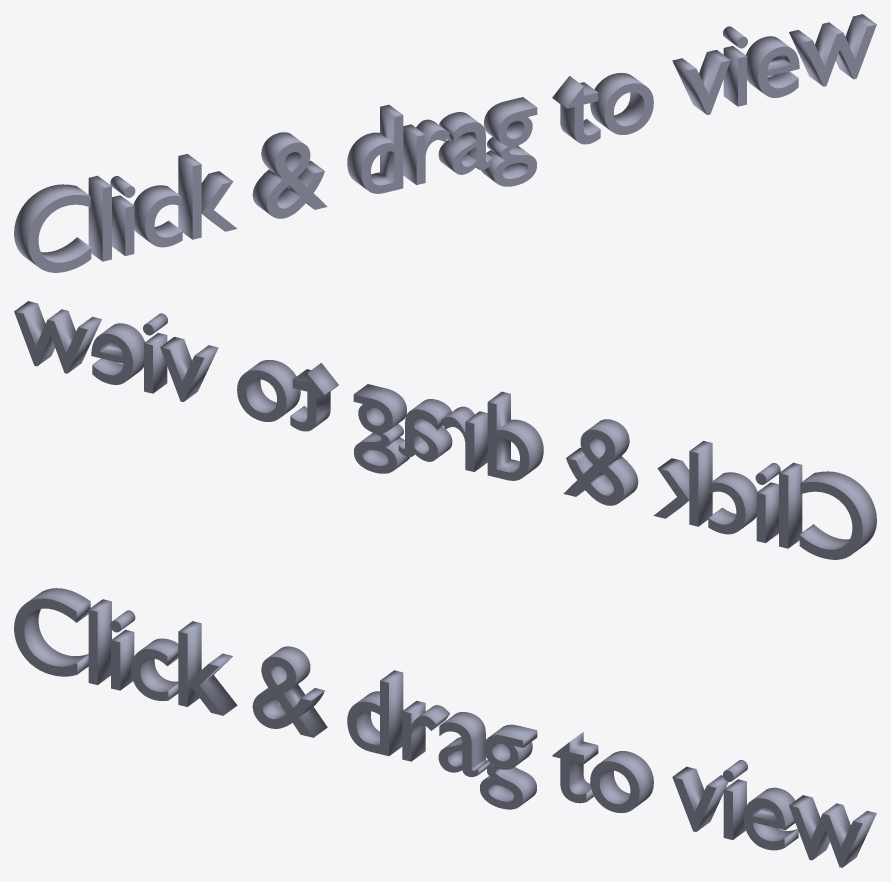
Rendered from click.glb.
3 views of the same model, one above another, from view 1: azimuth 30°, elevation 25°; view 2: azimuth 150°, elevation 25°; view 3: azimuth 330°, elevation 25° (orthographic).
Visible parts, largest first — view 1: Click; view 2: Click; view 3: Click.
Part boxes in pixels (x1,y1,x2,y2): Click: (14,14,876,272); Click: (14,301,876,559); Click: (14,588,876,867).
Bounding box in the file's own units: 8.25 × 0.9208 × 0.2398.
